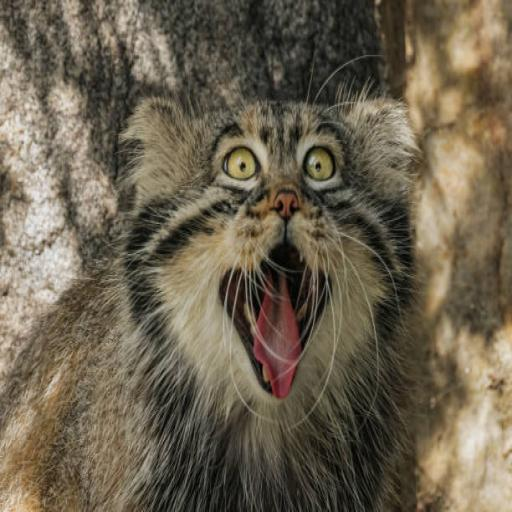manul: (0, 96, 416, 511)
